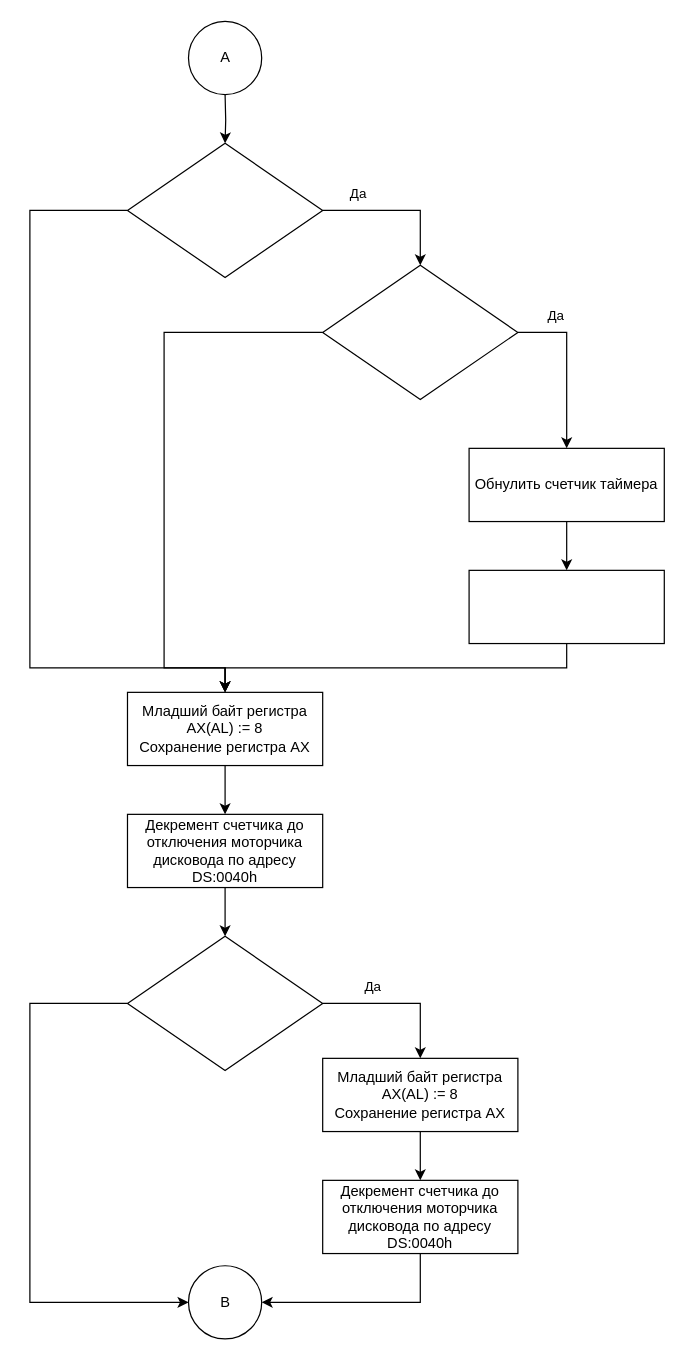
The diagram is 686 pixels wide and 1360 high, and some of its shapes have lost their labels. The box of each missing label's shape, as (x1, y1, x2, y2) in pixels:
2 младших байта счетчика по адресу DS:006Ch == 0?: (321, 264, 518, 400)
2 старших байта счетчика по адресу DS:006Ch == 24?: (126, 142, 323, 278)
Занесение единицы по адресу DS:0070h: (468, 569, 664, 644)
счетчика по адресу DS:0040h == 0?: (126, 935, 323, 1071)
